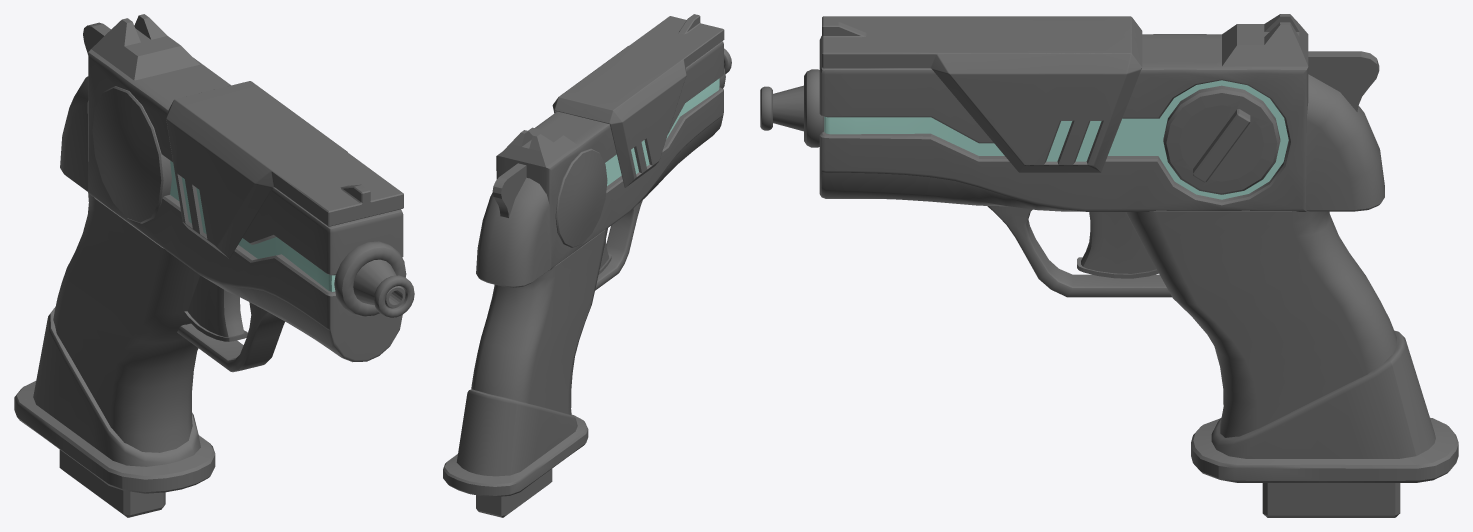
The model's file is HG_tex.fbx.
3 views of the same model, side by side, from view 1: azimuth 30°, elevation 25°; view 2: azimuth 150°, elevation 25°; view 3: azimuth 270°, elevation 25° (orthographic). The views are drawn at different scales.
Visible parts, largest first — view 1: polySurface88, Trigger, polySurface89; view 2: polySurface88, polySurface89; view 3: polySurface88, Mag, polySurface89, Trigger.
Boxes of the visible parts, bbox=[...] form: polySurface88: bbox=[14, 14, 414, 517]; Trigger: bbox=[183, 275, 247, 341]; polySurface89: bbox=[170, 160, 335, 291]; polySurface88: bbox=[443, 14, 731, 517]; polySurface89: bbox=[605, 78, 719, 185]; polySurface88: bbox=[760, 14, 1458, 517]; Mag: bbox=[1163, 85, 1280, 194]; polySurface89: bbox=[824, 80, 1288, 199]; Trigger: bbox=[1077, 212, 1158, 278].
Bounding box in the file's own units: 5.22 × 23.42 × 30.24.
